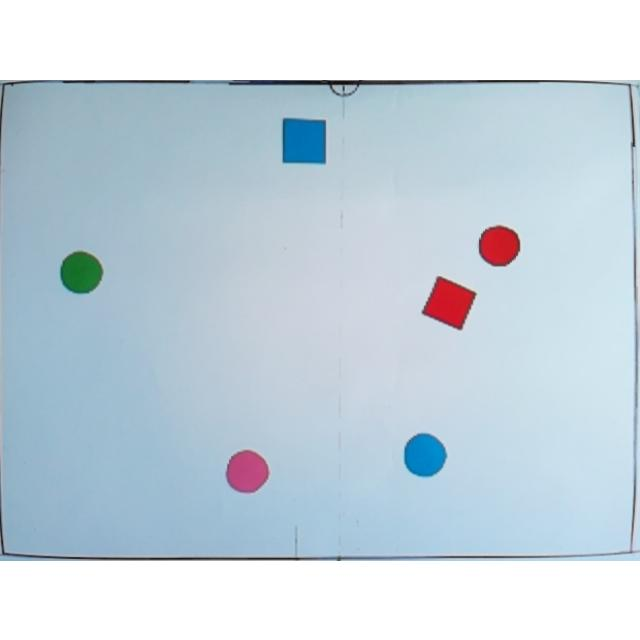blueCircle: (404, 429, 448, 476)
blueSquare: (281, 114, 329, 164)
greenCircle: (58, 248, 105, 294)
pinkCircle: (226, 446, 270, 494)
redCircle: (476, 224, 522, 266)
redSquare: (422, 273, 478, 331)
